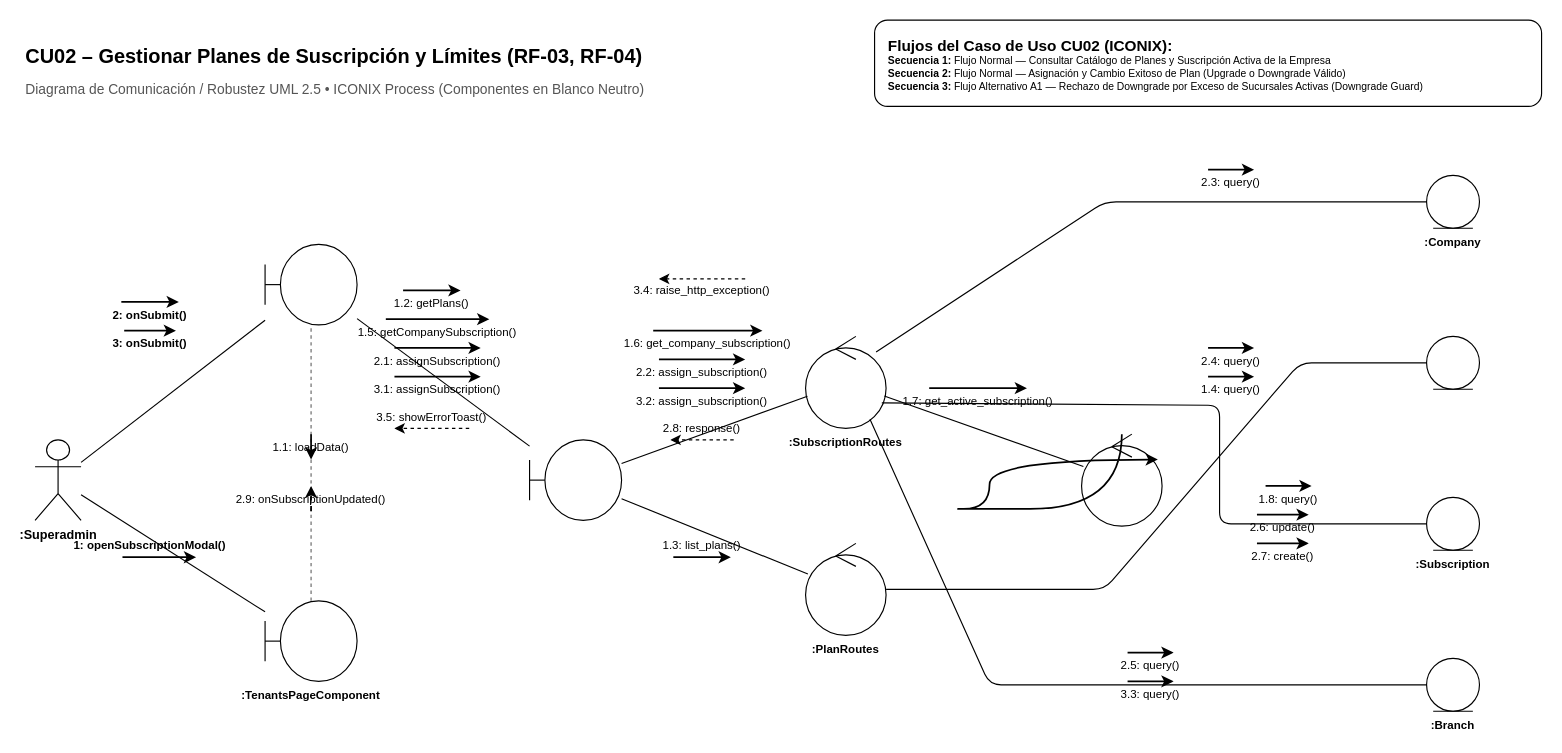
Some shapes in this 1562 by 753 pixel diagram are drawn without their labels. Here are the shapes that lost their labels. From the top down, the box of each, then its label:
(264, 243, 357, 325): :SubscriptionModalComponent
(1425, 335, 1479, 389): :Plan
(528, 439, 622, 520): :CompanyService
(1080, 433, 1162, 526): :QuotaService
